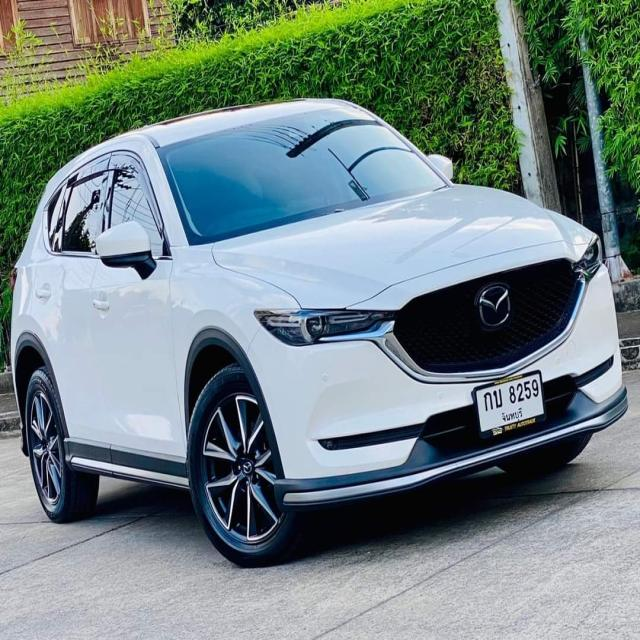license_plate: (472, 365, 548, 444)
